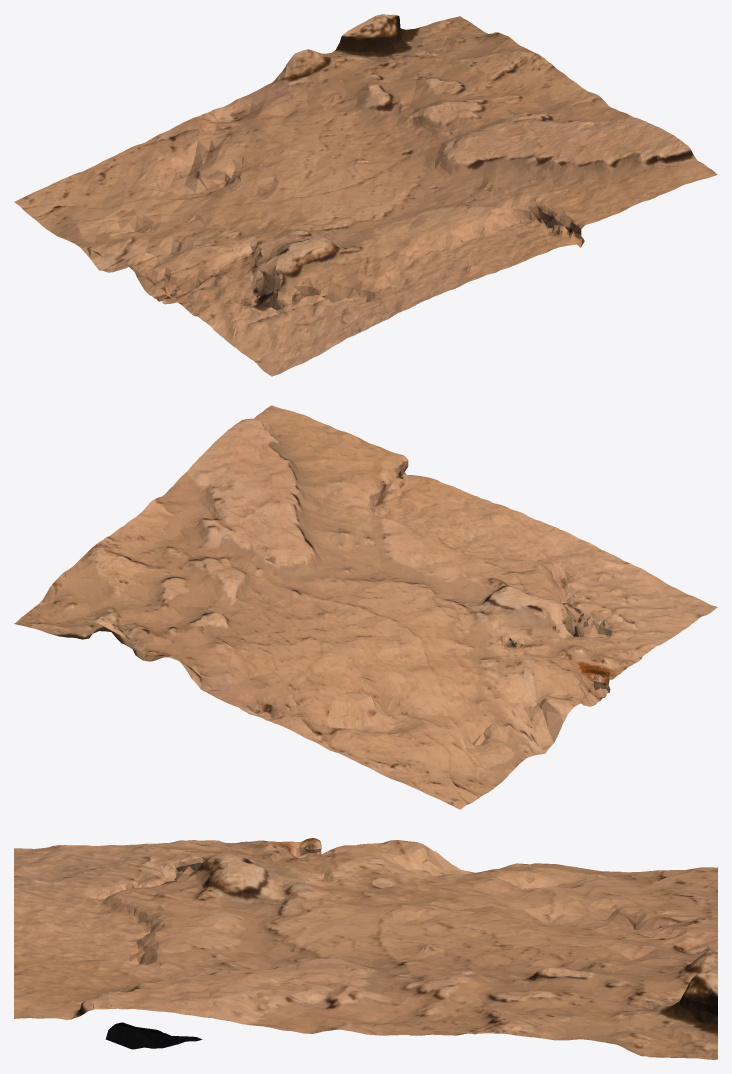
3 views of the same model, one above another, from view 1: azimuth 30°, elevation 25°; view 2: azimuth 150°, elevation 25°; view 3: azimuth 270°, elevation 25° (orthographic). The views are drawn at different scales.
Bounding box in the file's own units: 1.04 × 0.2719 × 1.04.
3 materials, 3 textured.
